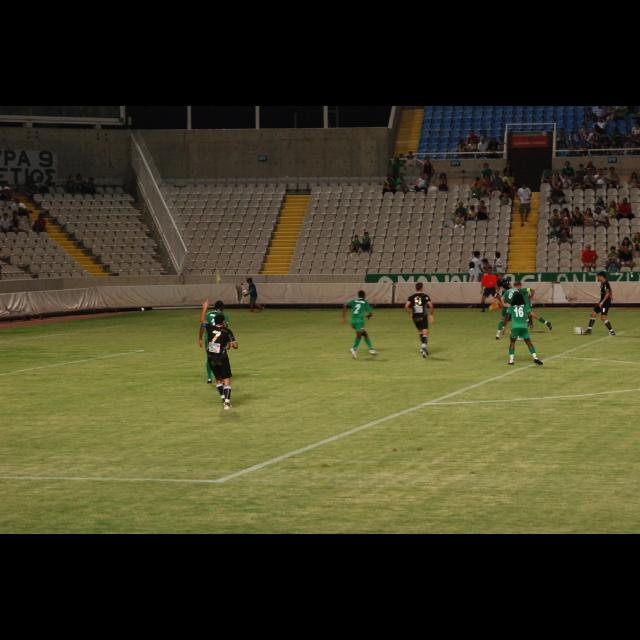Football: (574, 326, 582, 334)
